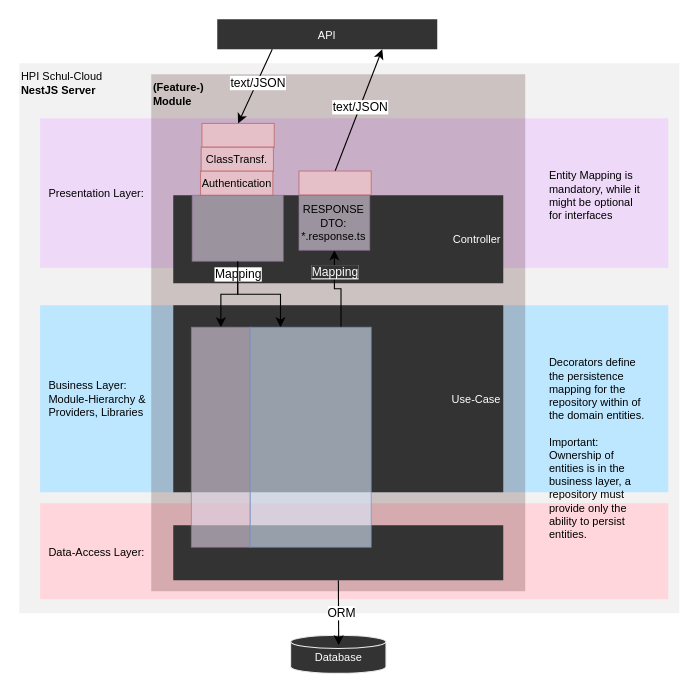
Some shapes in this 697 by 693 pixel diagram are drawn without their labels. The centre of each missing label's shape, as x and y in pixels:
"Entity" goes at [310,436].
"Interfaces" goes at [220,436].
"Repository" goes at [338,552].
"REQUEST DTO: *.query.ts *.param.ts" goes at [237,227].
"Serializer" goes at [334,182].
"ValidationPipe" goes at [237,134].
